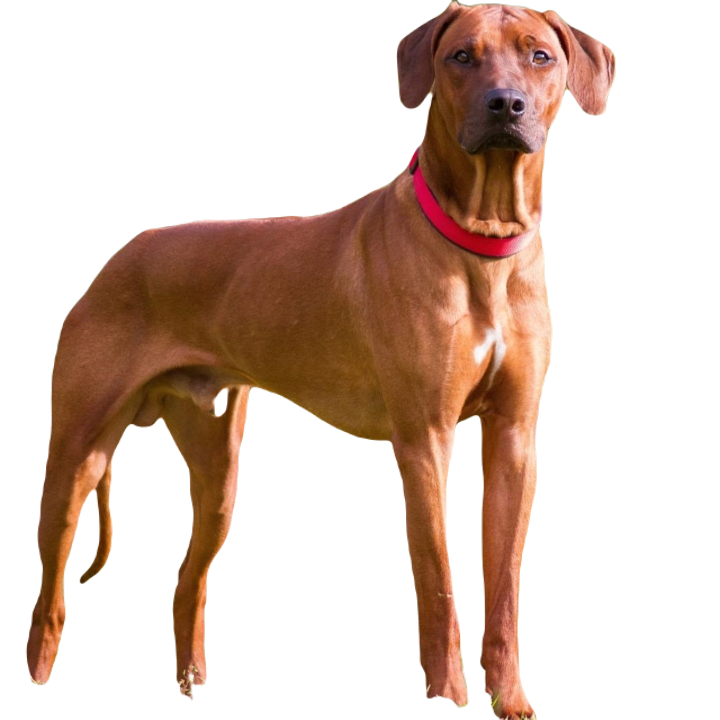Dog: (24, 1, 614, 717)
